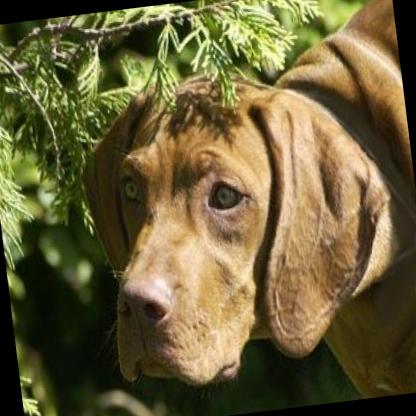vizsla: (58, 0, 416, 416)
